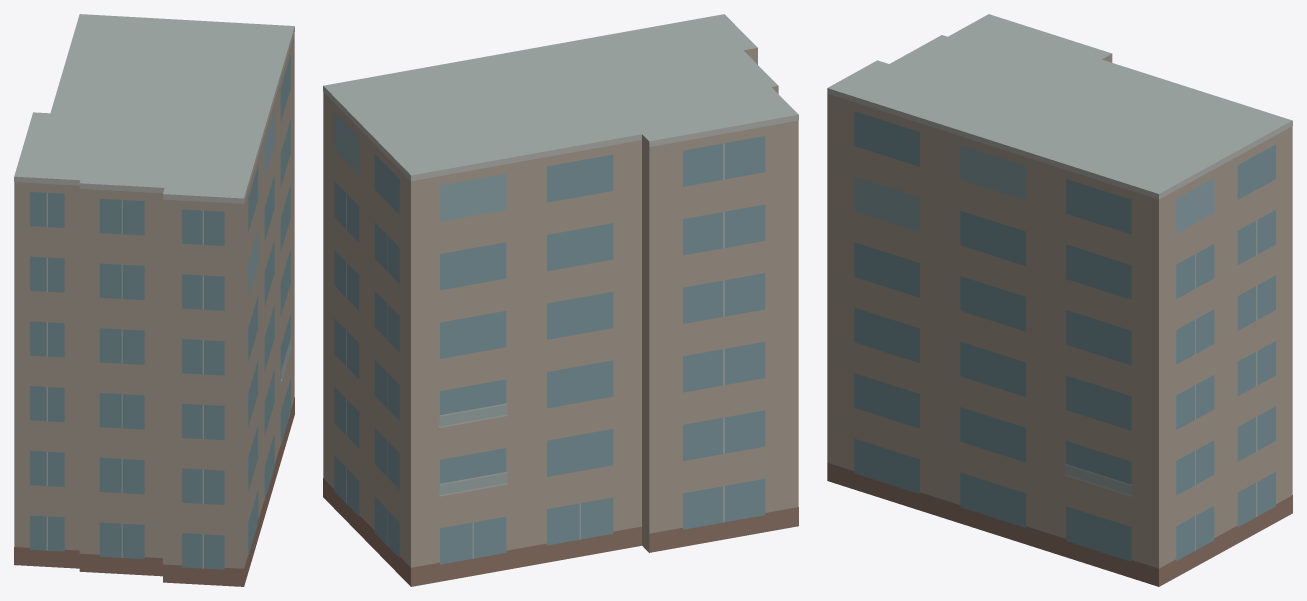
The model's file is survey-upis-32898357.glb.
3 views of the same model, side by side, from view 1: azimuth 30°, elevation 25°; view 2: azimuth 150°, elevation 25°; view 3: azimuth 270°, elevation 25° (orthographic). The views are drawn at different scales.
Parts seen in each view (by area): view 1: survey-upis-32898357.tmp; view 2: survey-upis-32898357.tmp; view 3: survey-upis-32898357.tmp.
Part boxes in pixels (bbox=[...]): survey-upis-32898357.tmp: bbox=[14, 14, 294, 586]; survey-upis-32898357.tmp: bbox=[323, 14, 798, 586]; survey-upis-32898357.tmp: bbox=[827, 14, 1292, 586].
Bounding box in the file's own units: 17.06 × 17.35 × 18.64.
